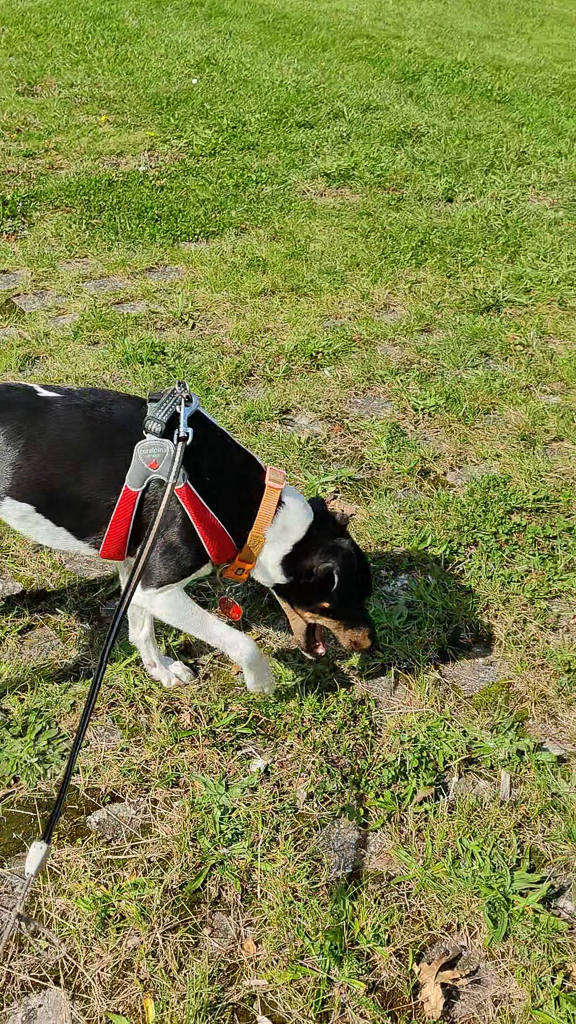Dog: (0, 350, 394, 729)
